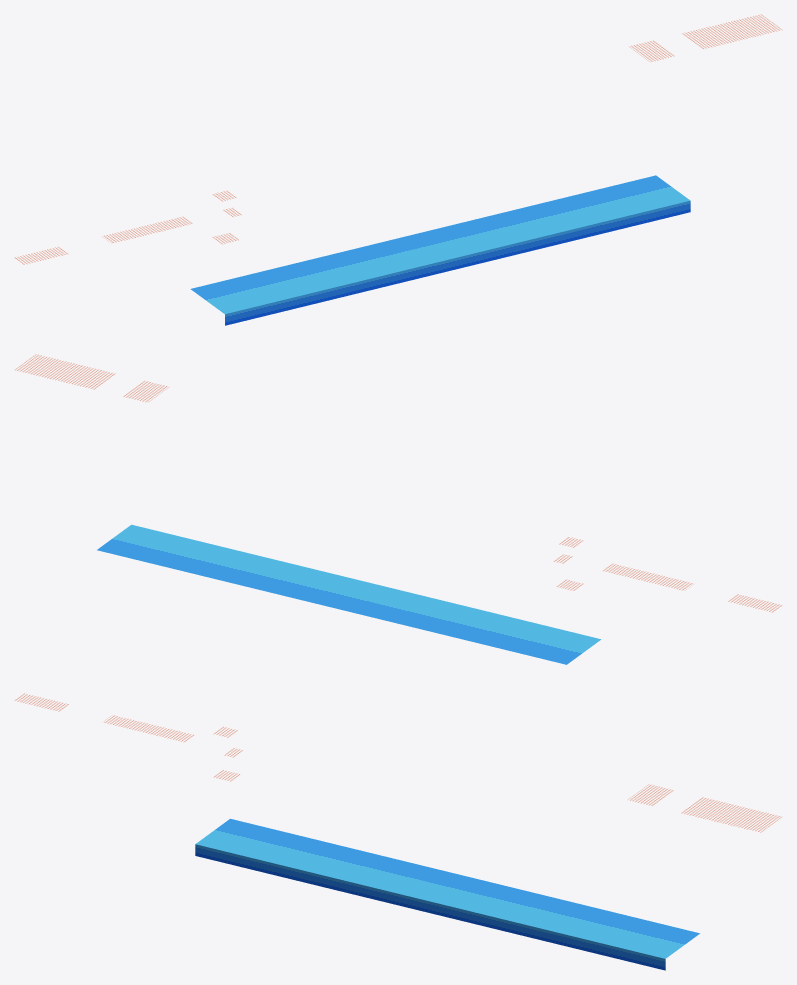
File: DECO_STAGE7.glb
3 views of the same model, one above another, from view 1: azimuth 30°, elevation 25°; view 2: azimuth 150°, elevation 25°; view 3: azimuth 330°, elevation 25° (orthographic).
Parts seen in each view (by area): view 1: DECO_STAGE7; view 2: DECO_STAGE7; view 3: DECO_STAGE7.
Part boxes in pixels (x1,y1,x2,y2): DECO_STAGE7: [14, 14, 782, 325]; DECO_STAGE7: [14, 354, 782, 664]; DECO_STAGE7: [14, 693, 782, 970].
Size of the model in its own units: 97.14 by 19.63 by 7.76.
Materials: 2 (2 with a texture image).
